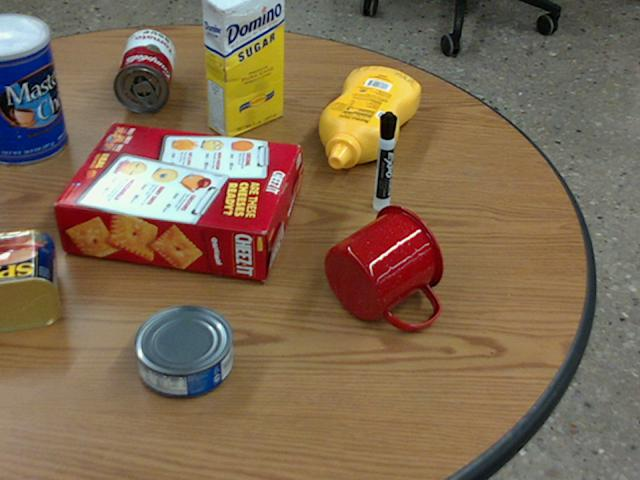cracker_box: (56, 122, 299, 279)
large_marker: (374, 111, 396, 211)
master_chef_can: (0, 13, 67, 163)
mug: (325, 205, 445, 328)
mustard_bottle: (319, 67, 419, 168)
potted_meat_can: (0, 227, 58, 330)
sugar_box: (203, 0, 284, 138)
tomato_soup_can: (113, 29, 173, 112)
tuna_fish_can: (132, 304, 231, 397)
